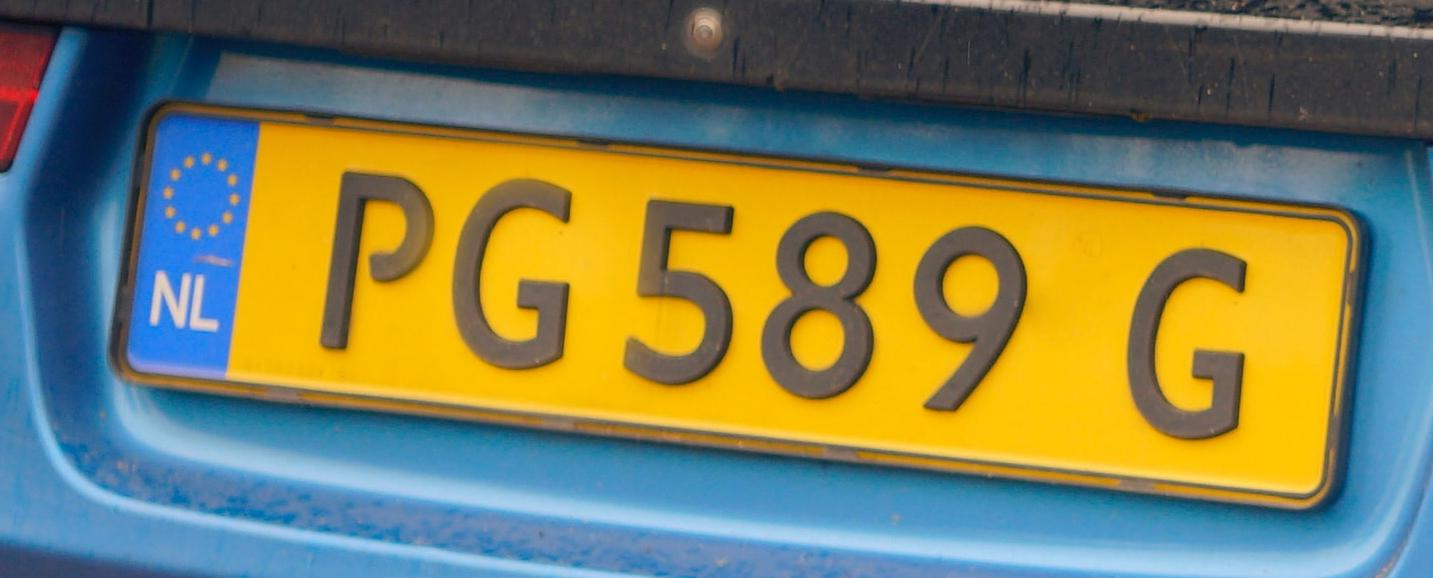5: (617, 195, 745, 396)
8: (757, 203, 884, 405)
9: (902, 221, 1032, 421)
G: (1117, 237, 1258, 448), (448, 174, 578, 373)
P: (320, 164, 437, 363)
